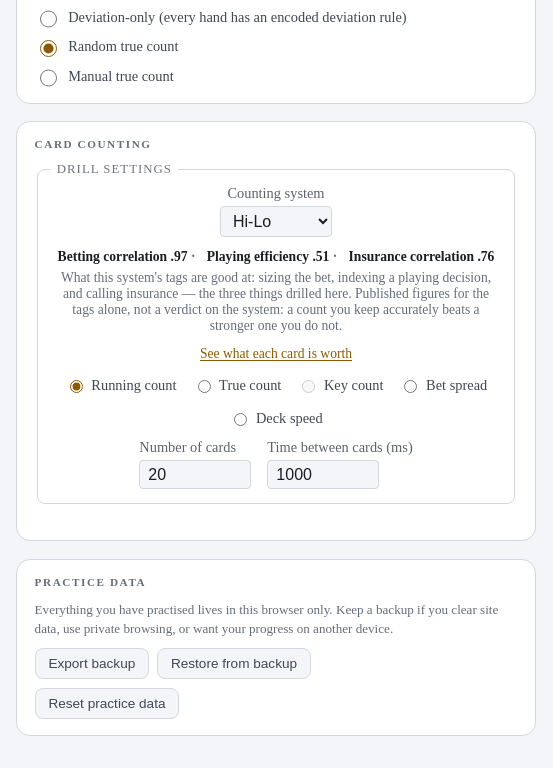
Scenario: SettingsPageComponent › backup › names the file it saved
This screenshot has width=553, height=768.
(page scrolled)
Click the button "Export backup".
click(92, 664)  # box left=35, top=648, right=149, bottom=679
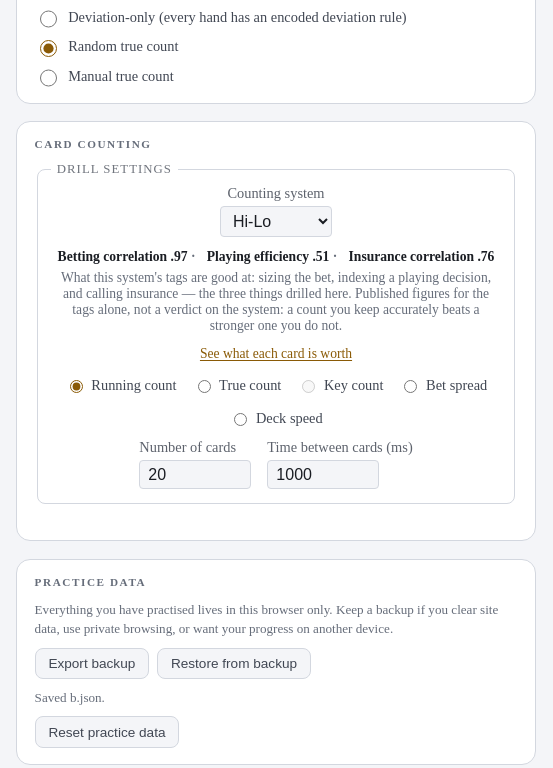
Result: the message with class "settings__warning" shows "b.json" at left=35, top=690, right=105, bottom=705
